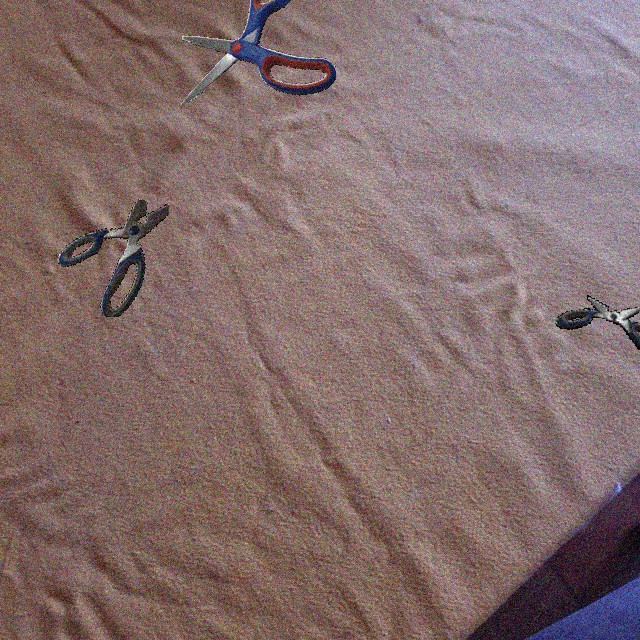scissors: (181, 0, 336, 105), (57, 199, 169, 317), (555, 295, 640, 359)
